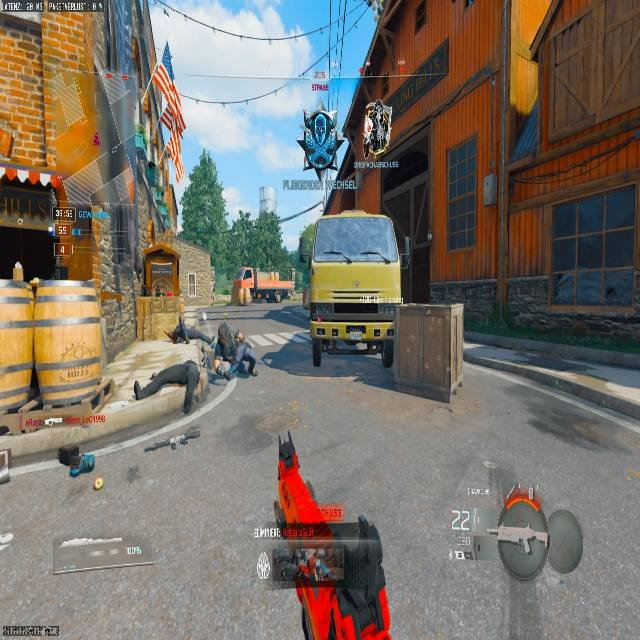player: (300, 107, 343, 187)
